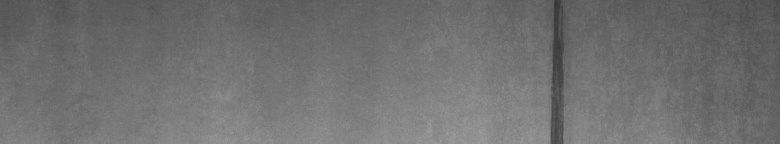hd: (544, 4, 568, 136)
